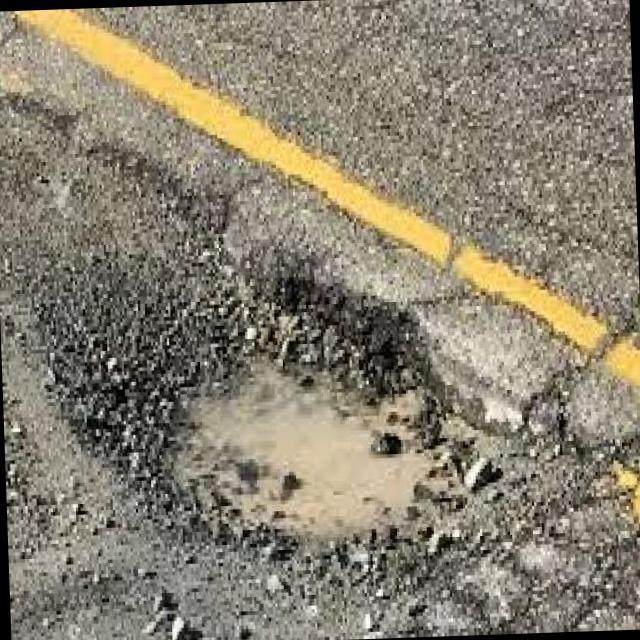Pothole: (50, 276, 439, 540)
